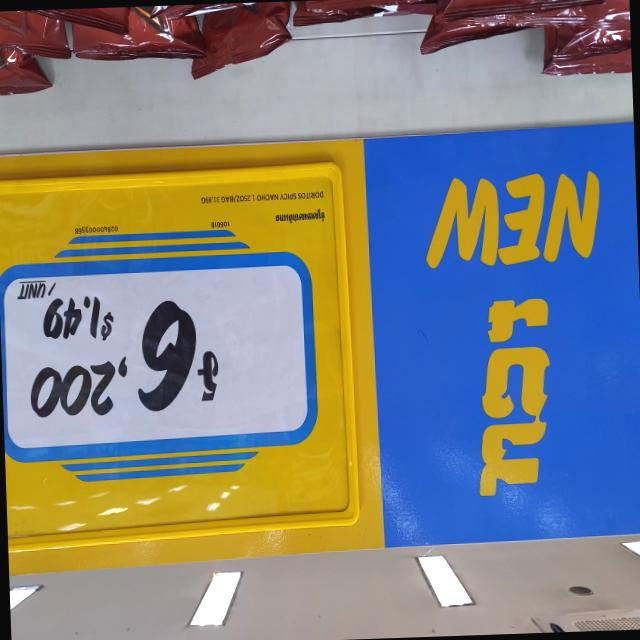336: (71, 223, 121, 236)
516: (243, 192, 256, 206)
522: (41, 292, 104, 343)
544: (208, 219, 231, 231)
716: (203, 193, 220, 206)
807: (26, 294, 204, 422)
Yolov11_80vkh: (472, 291, 556, 510), (272, 206, 327, 227)
